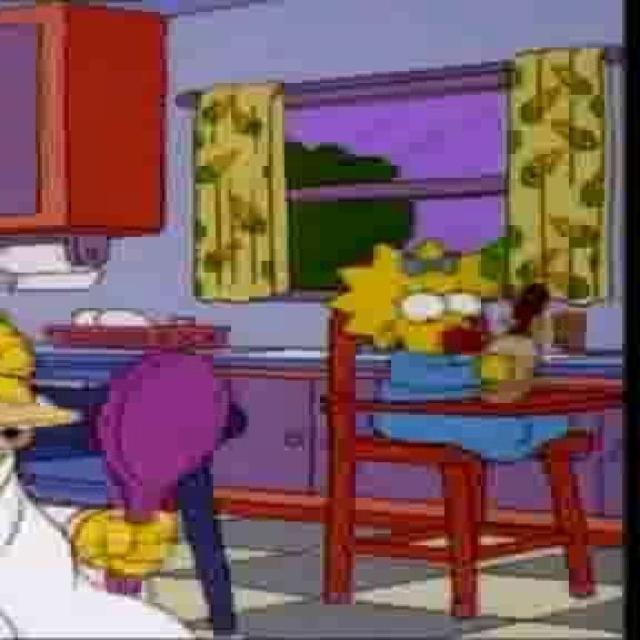Maggie Simpson: (329, 244, 507, 358)
